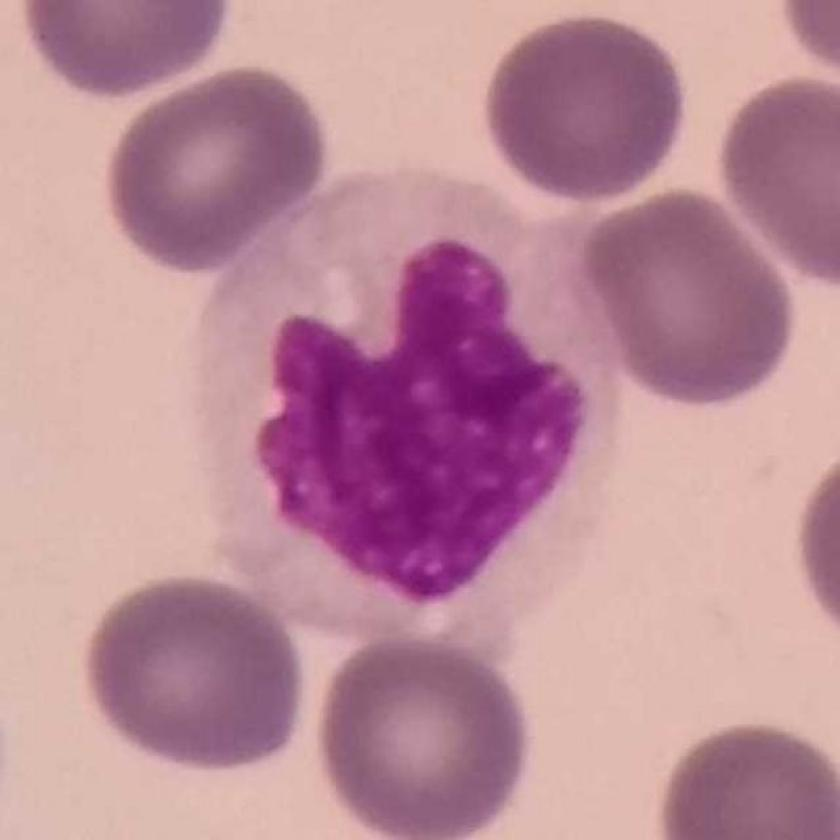monocyte: (180, 168, 648, 655)
